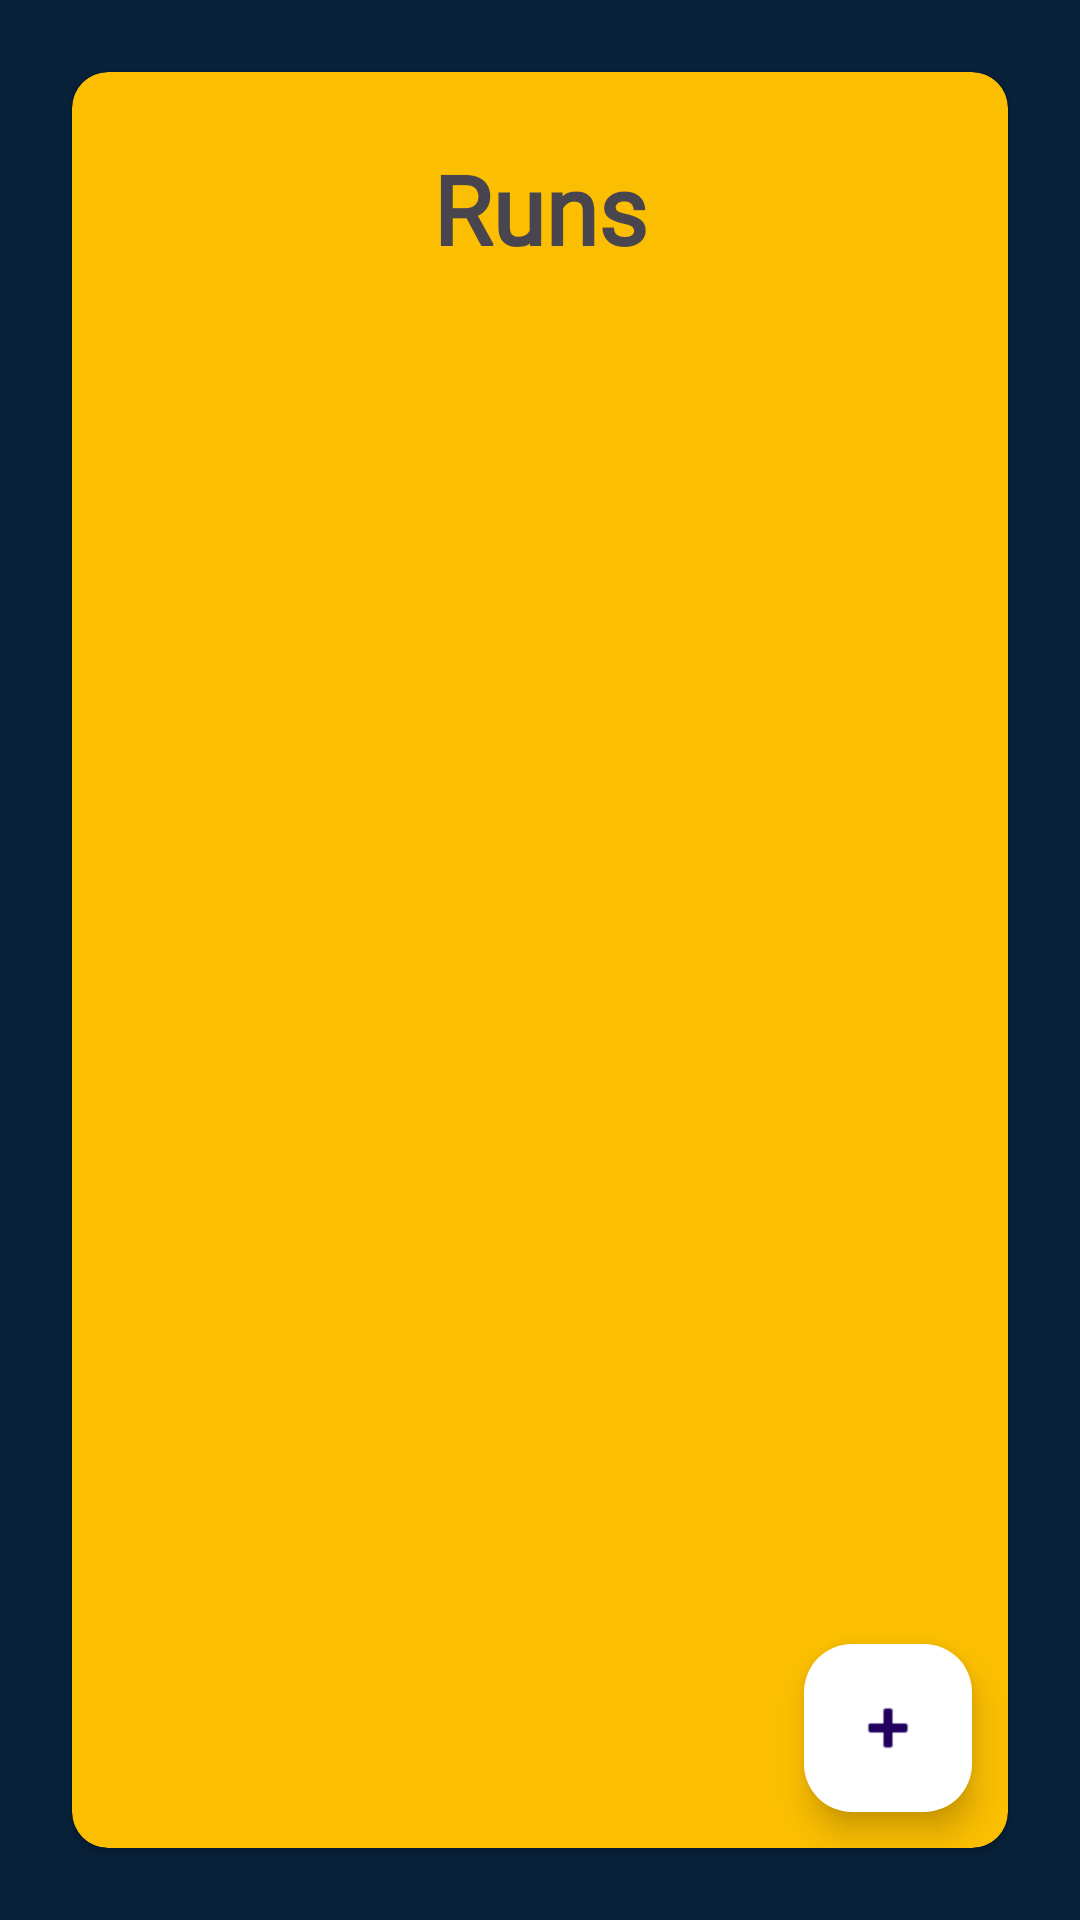

Icon bounding boxes for this 1080px x 1920px phone screenshot, format (x1, y1, x2, y2):
Add run: (804, 1644, 972, 1812)
